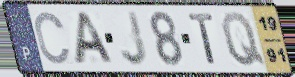8: (148, 10, 185, 68)
A: (73, 11, 117, 66)
C: (33, 10, 73, 67)
J: (119, 10, 150, 68)
Q: (219, 10, 268, 68)
T: (186, 12, 218, 66)
